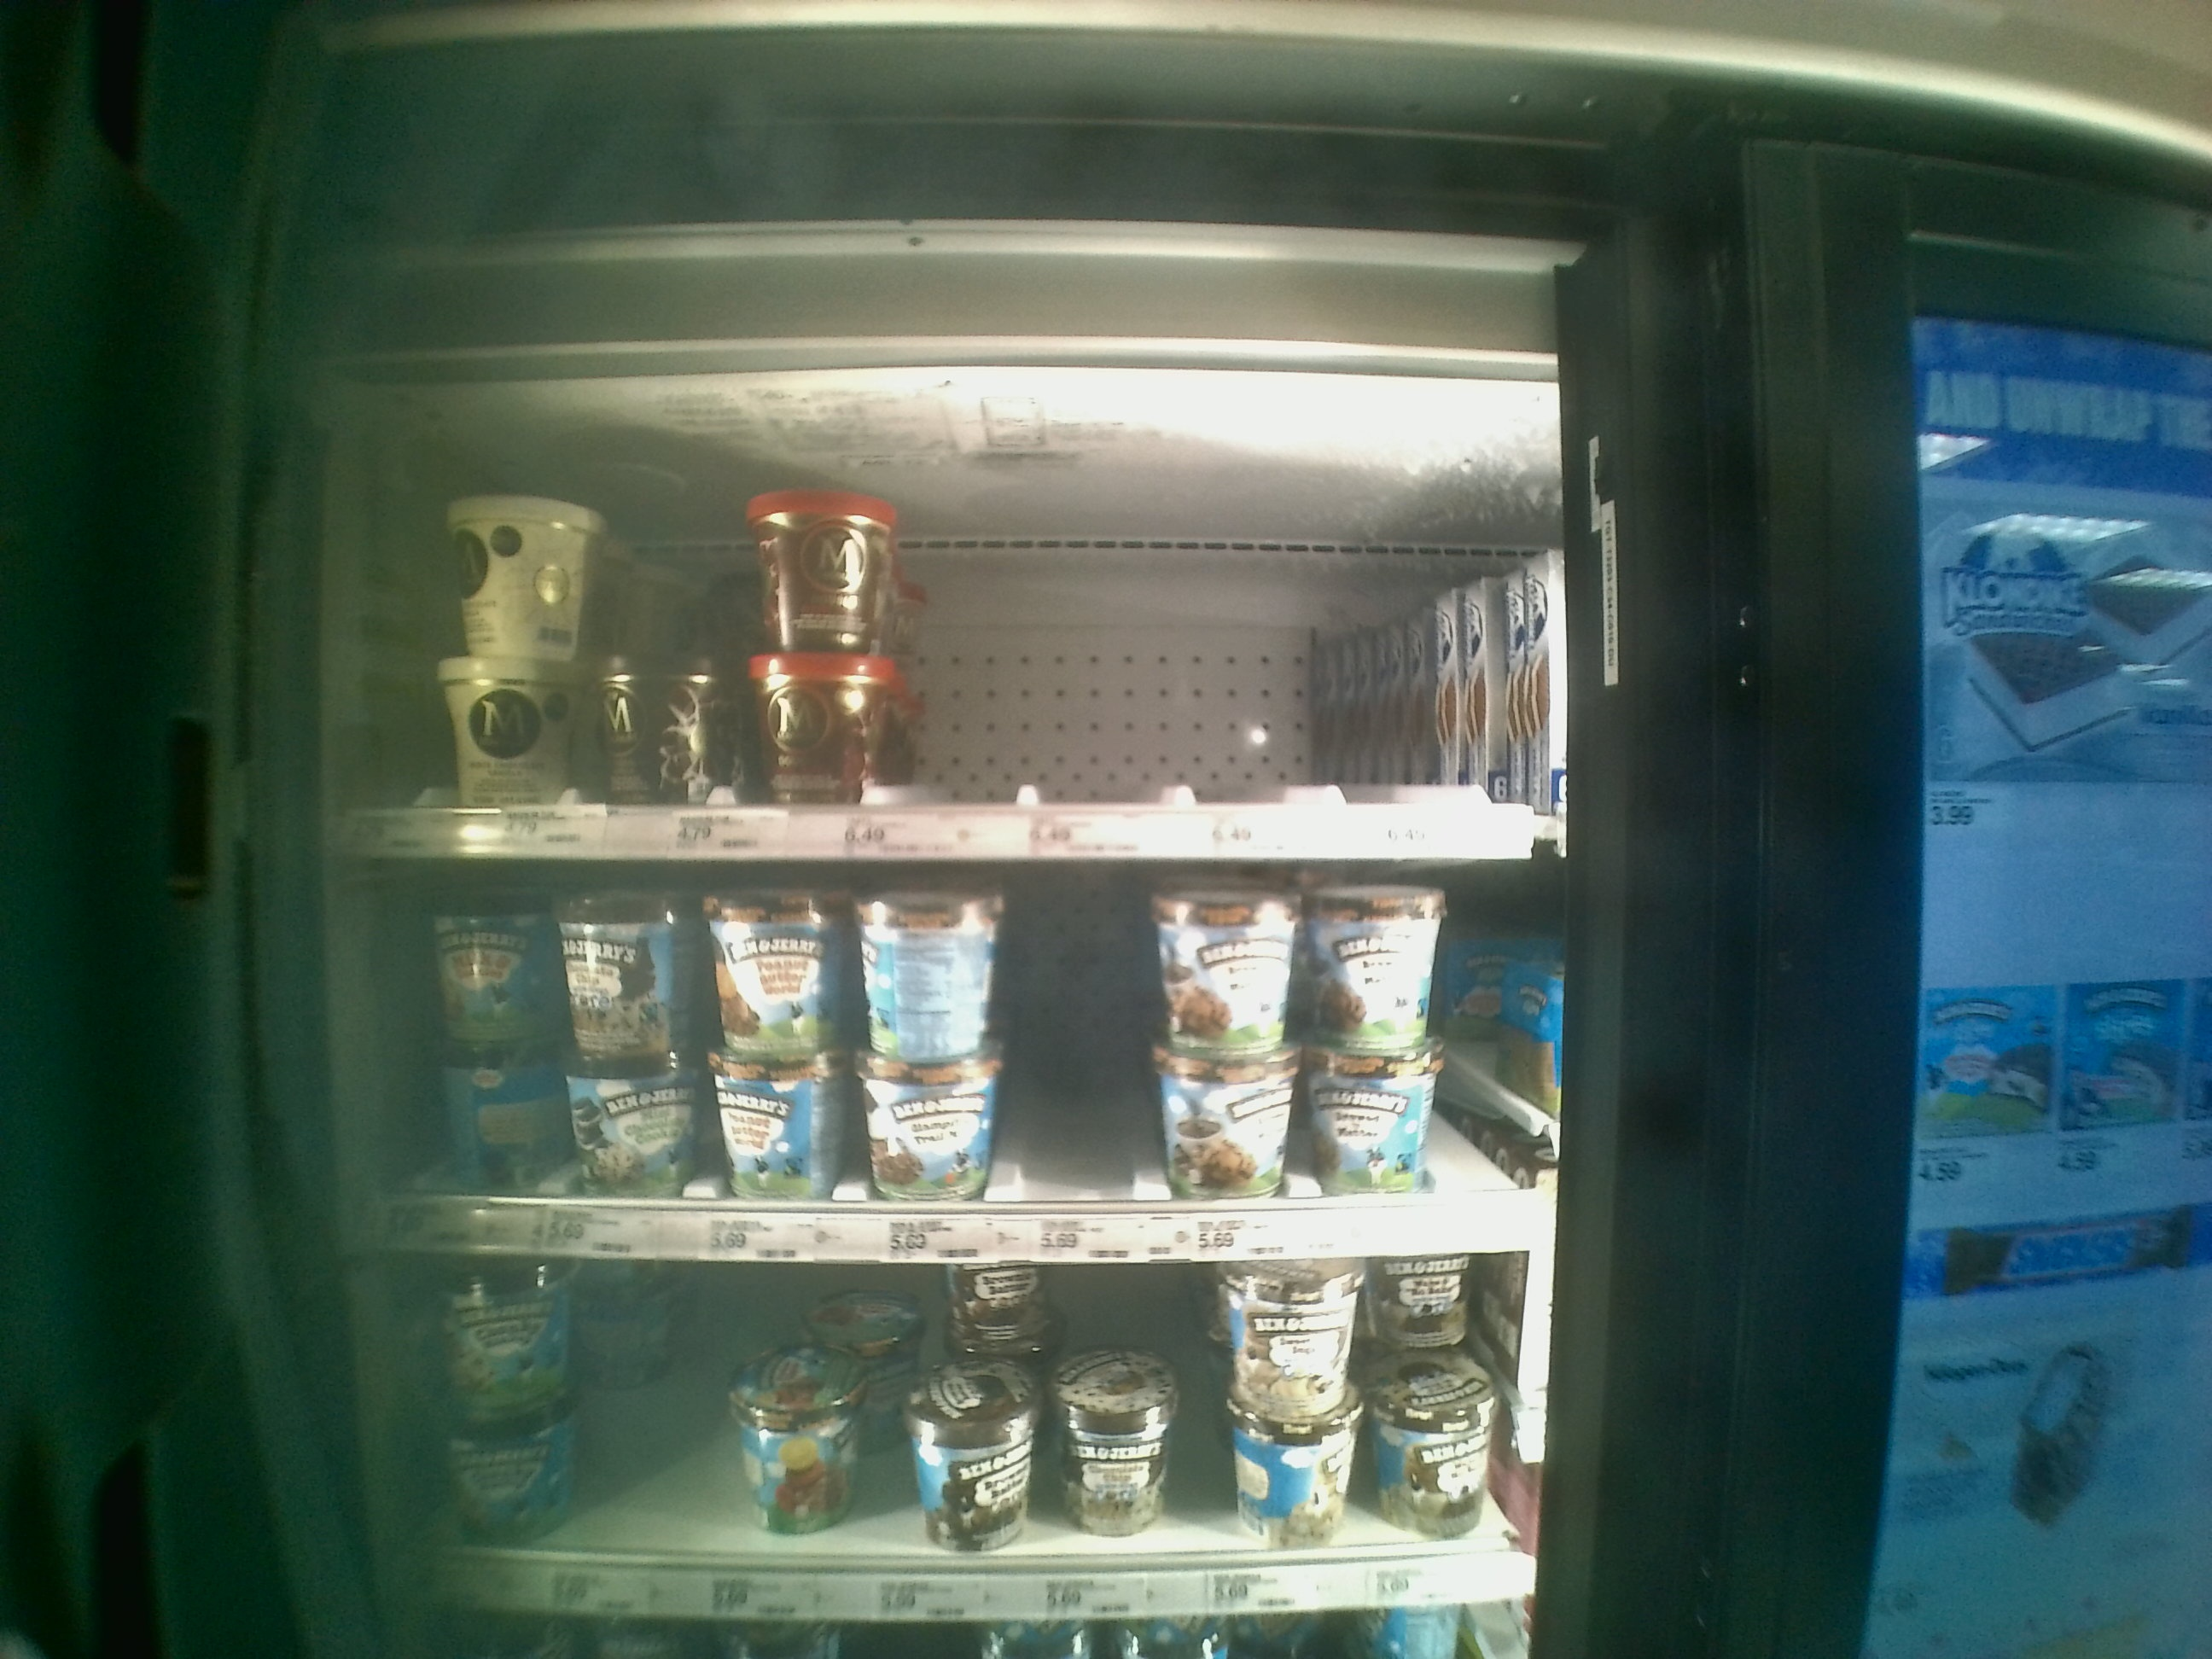ice-cream-shelf: (340, 413, 1571, 857), (334, 854, 1575, 1256), (329, 1260, 1531, 1622)
